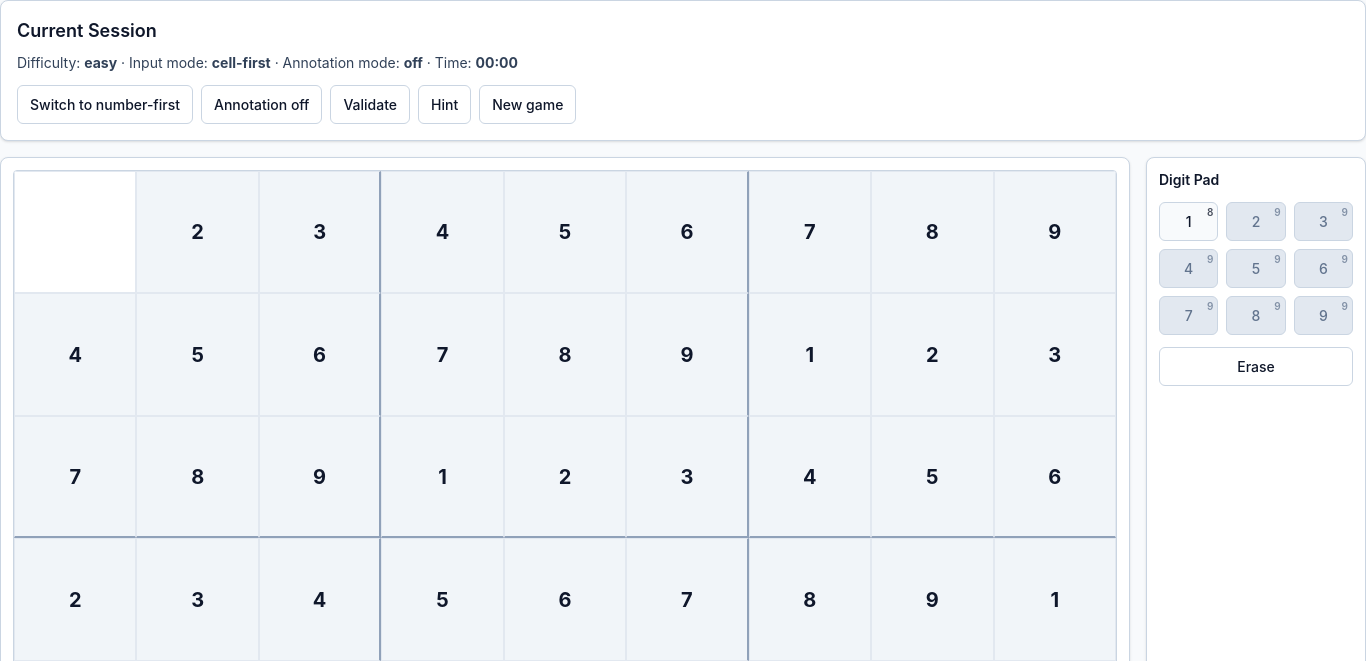
Test: GamePage integration › returns to difficulty selection from current session new game action
The width and height of the screenshot is (1366, 661).
Click the button "New game": (528, 104) [479,85,576,124]
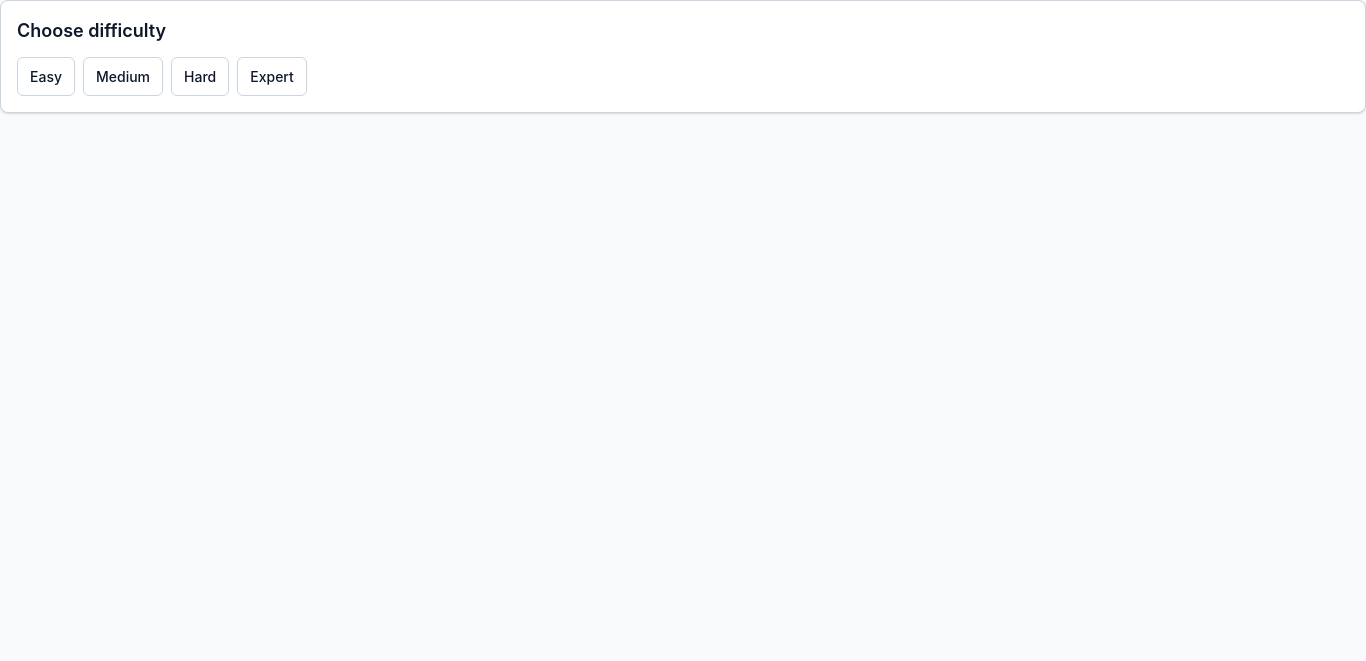
Result: the heading "Choose difficulty" is shown at [17,20,166,41]
